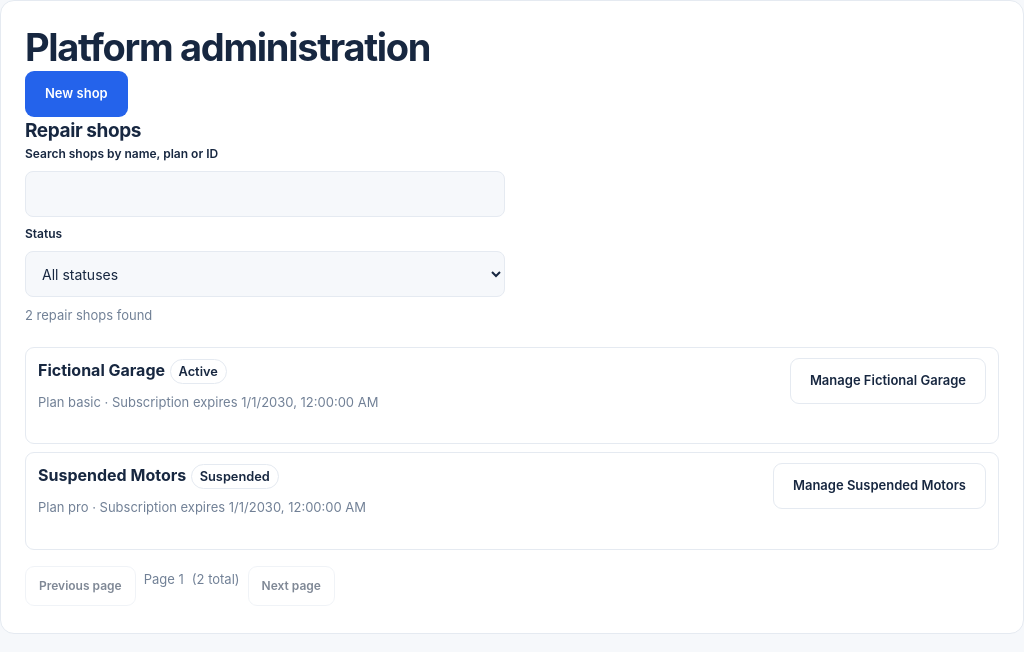
Test case: creates a shop with an audit reason and reloads the list
expect the text "Fictional Garage" is shown: met, box [38, 360, 165, 380]
Click the button "New shop" at (76, 94), box [25, 71, 128, 117]
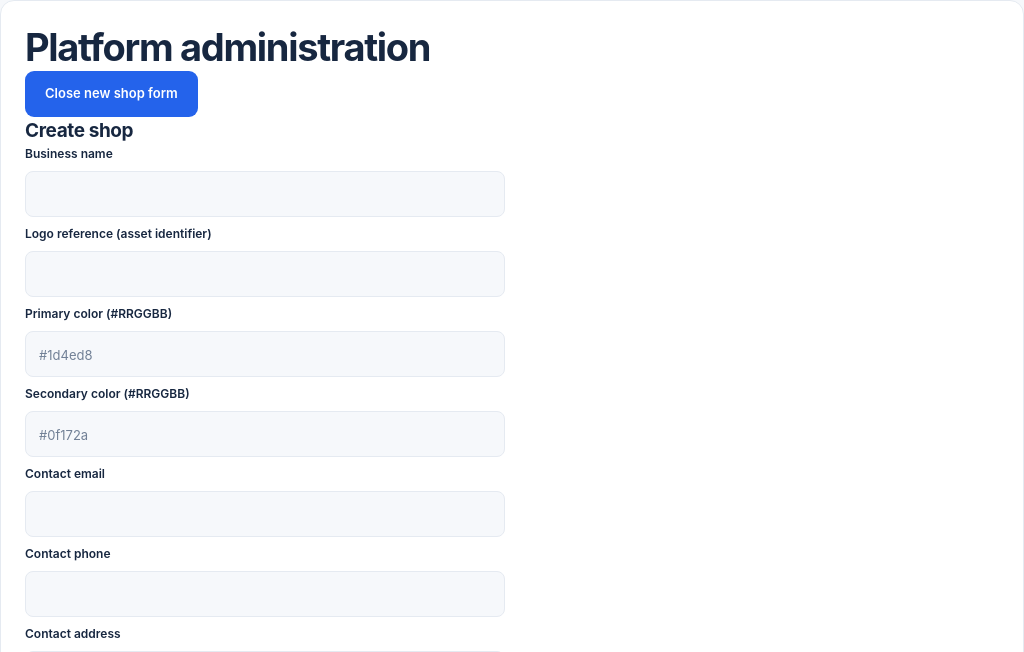
Type "  New Fictional Shop " into the field labelled "Business name" at (265, 194), box [25, 171, 505, 217]
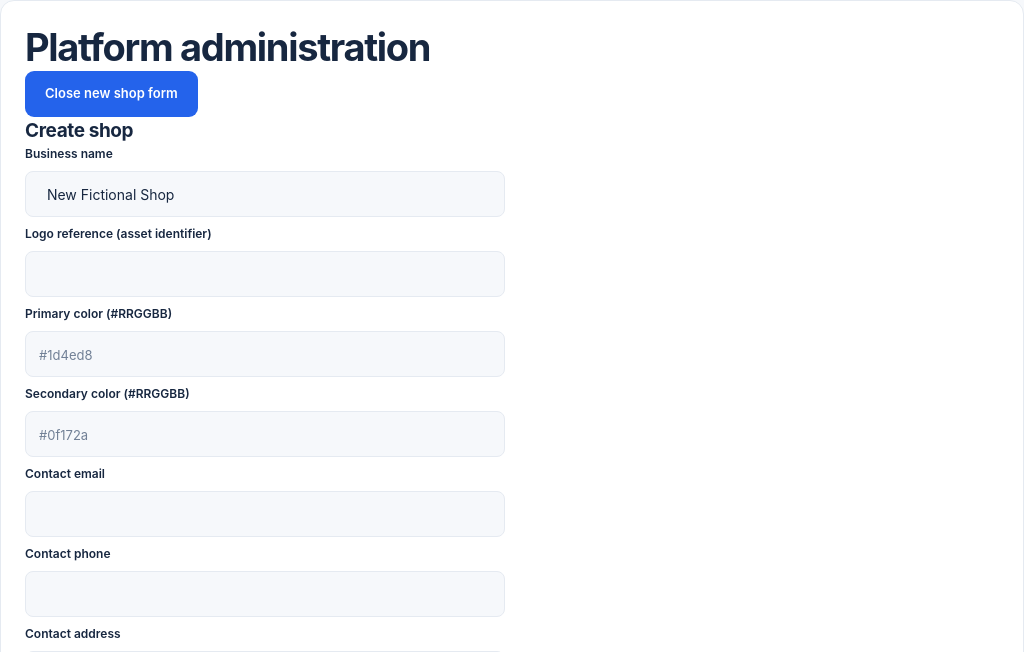
Type "#abcdef" into the field labelled "Primary color (#RRGGBB)" at (265, 354), box [25, 331, 505, 377]
(page scrolled)
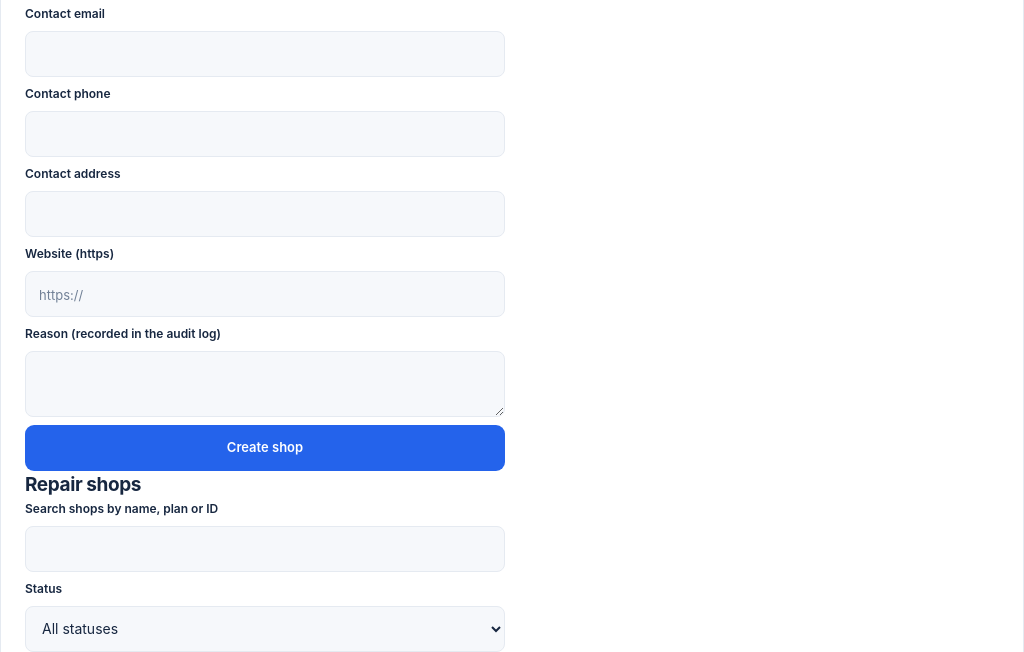
Type "Fictional audit reason" into the text box labelled "Reason (recorded in the audit log)" at (265, 384), box [25, 351, 505, 417]
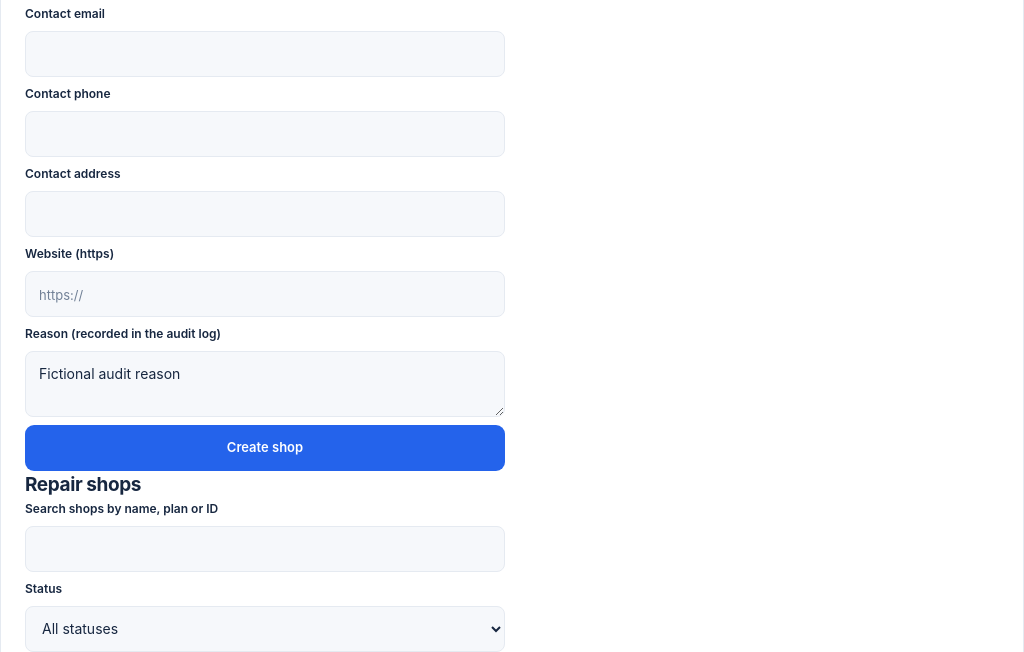
Click the button "Create shop" at (265, 448), box [25, 425, 505, 471]
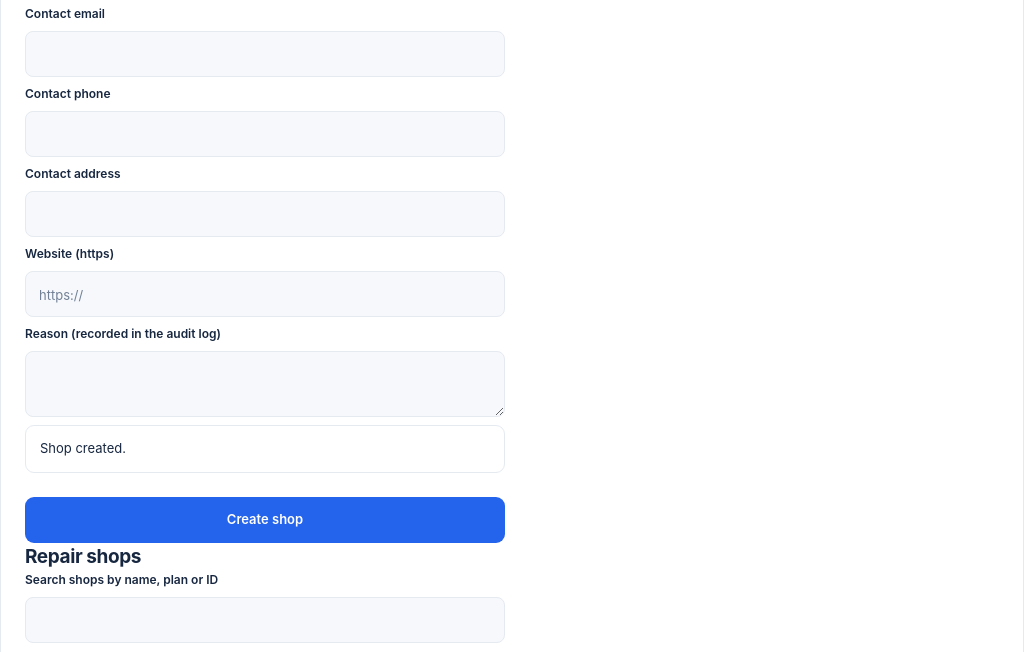
expect the text "Shop created." is shown: met, box [25, 425, 505, 472]
